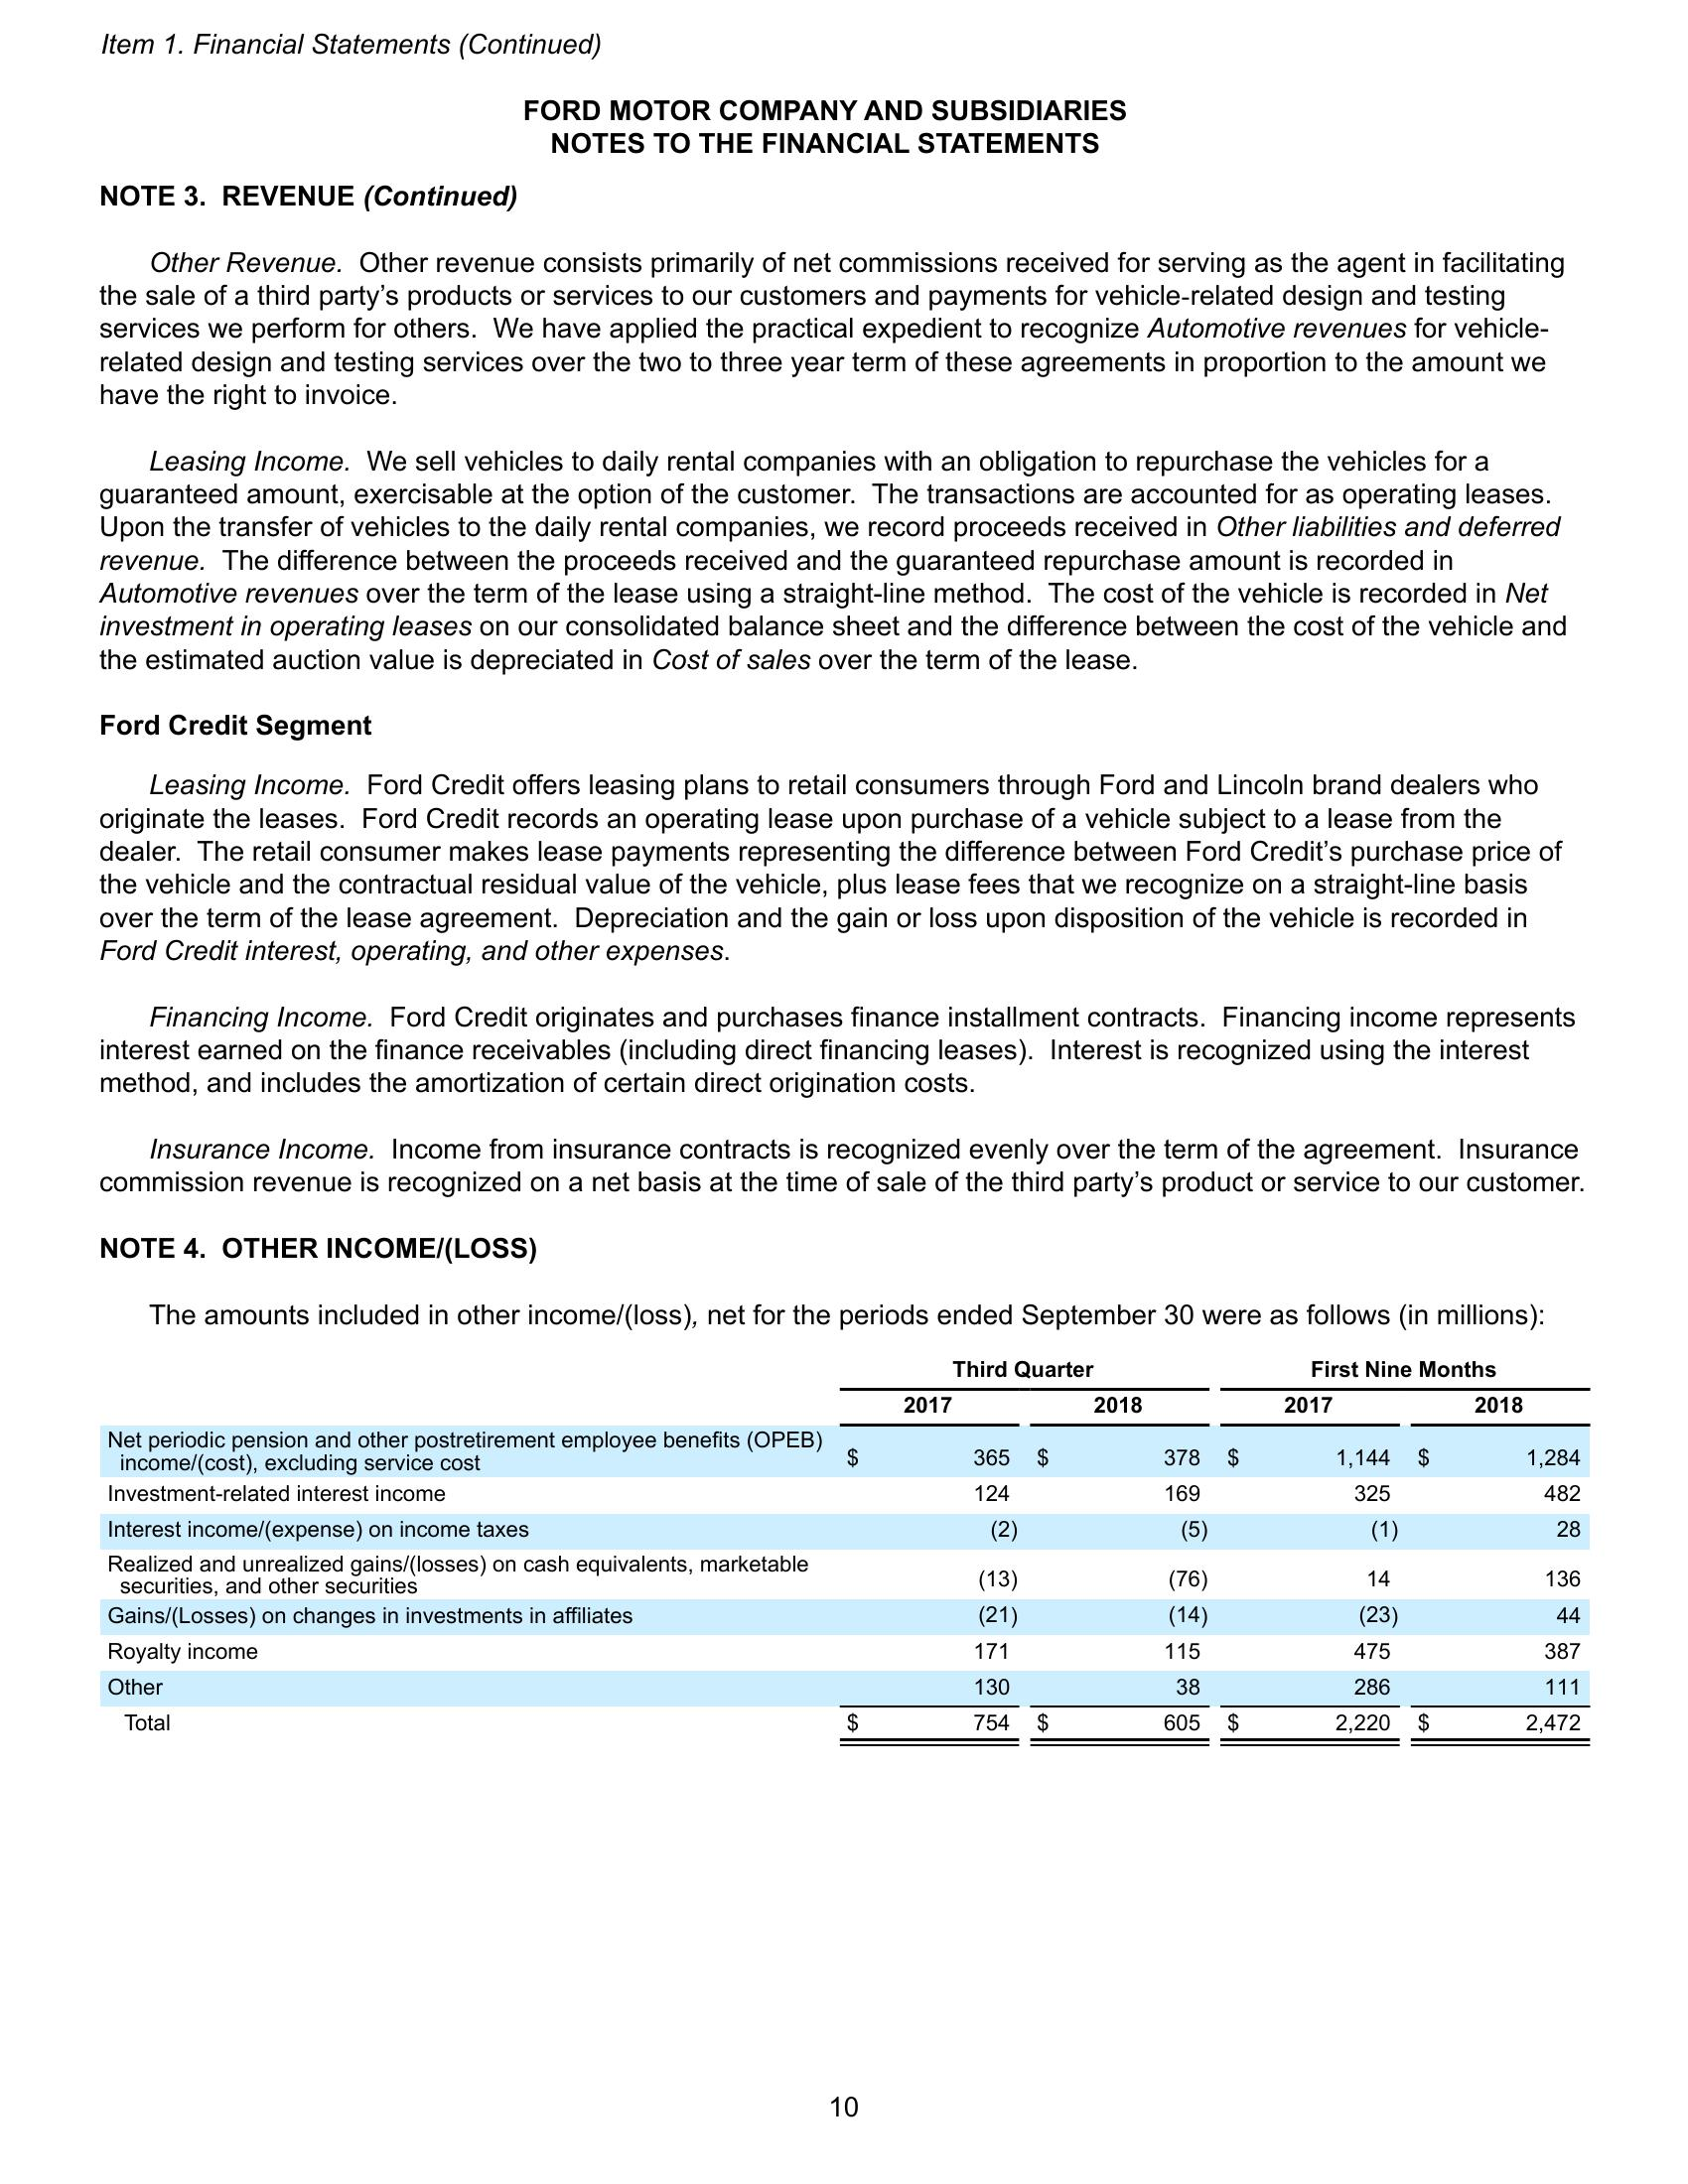table: (98, 1354, 1603, 1750)
